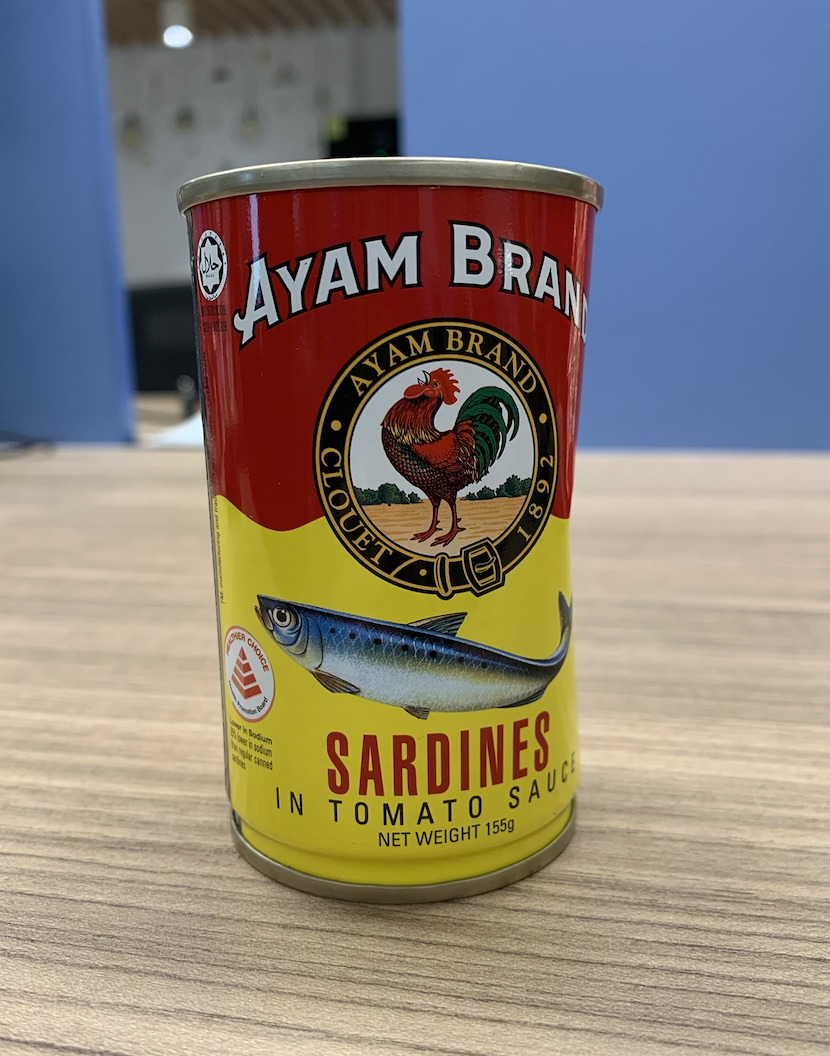sardines_100g-199g: (224, 212, 579, 850)
